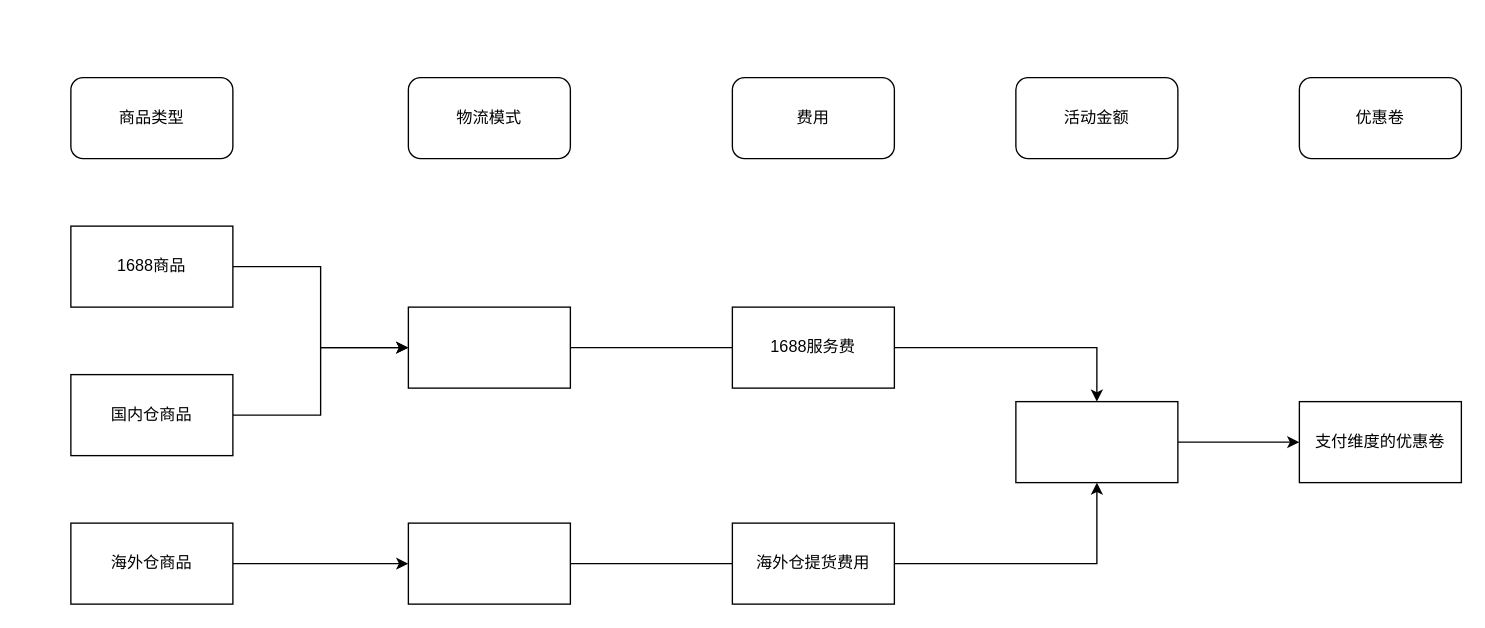
Some shapes in this 1485 by 628 pixel diagram are drawn without their labels. The centre of each missing label's shape, as x and y in pixels:
"商品维度的活动" belongs at pixel 1096 441.
"国际物流" belongs at pixel 488 347.
"当地发货" belongs at pixel 488 563.
